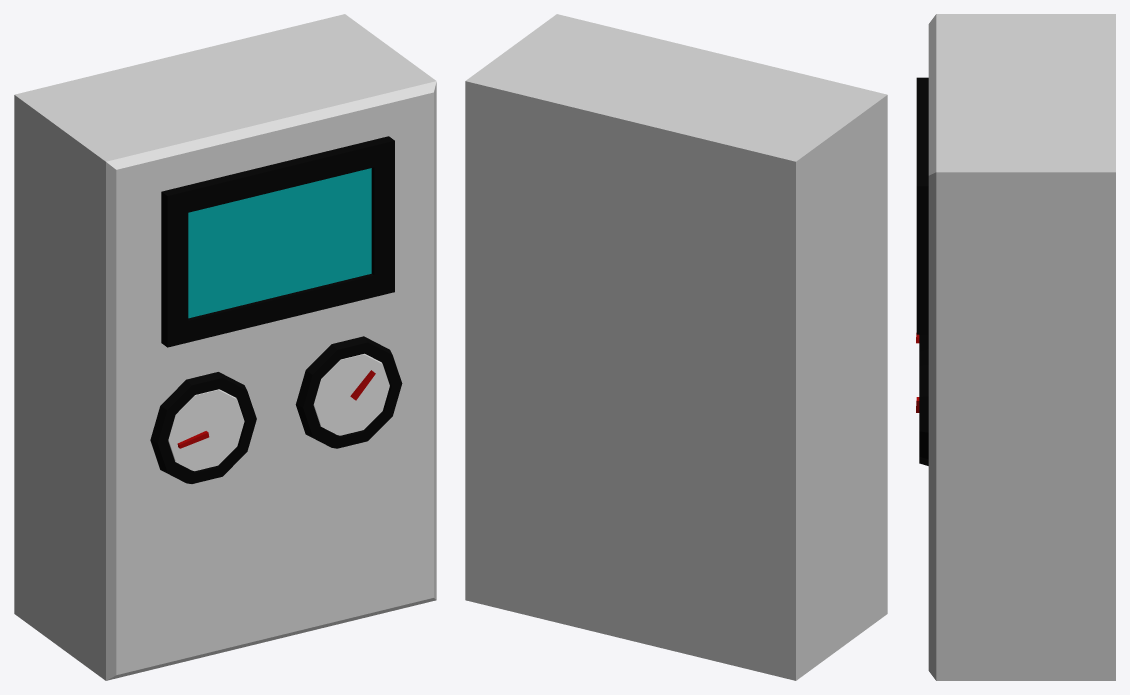
Rendered from Scute.fbx.
3 views of the same model, side by side, from view 1: azimuth 30°, elevation 25°; view 2: azimuth 150°, elevation 25°; view 3: azimuth 270°, elevation 25° (orthographic). The views are drawn at different scales.
Parts seen in each view (by area): view 1: pCube389; view 2: pCube389; view 3: pCube389.
Boxes of the visible parts, x1,y1,x2,y2 form: pCube389: [14, 14, 436, 680]; pCube389: [465, 14, 887, 680]; pCube389: [916, 14, 1115, 680].
Bounding box in the file's own units: 40 × 21.36 × 60.
